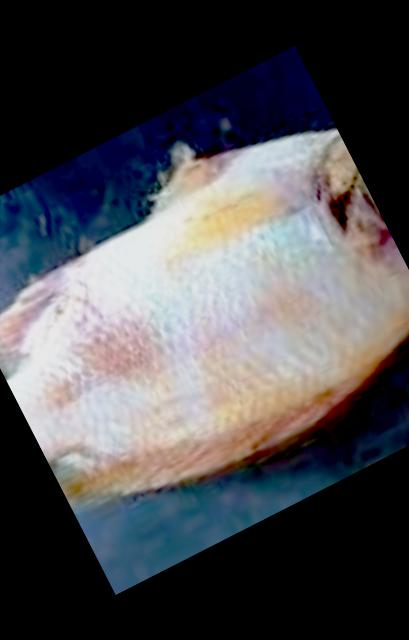Tilapia Lake Virus -TiLV-: (0, 130, 409, 501)
